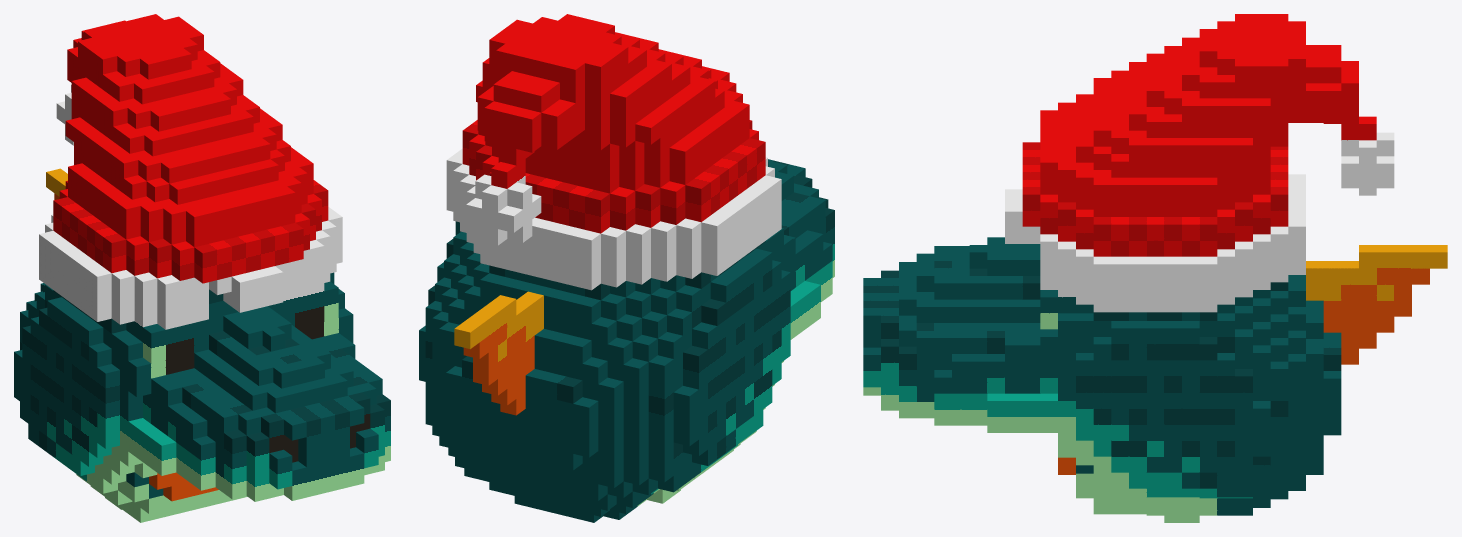
The model's file is santa hat_red glasses.gltf.
3 renders of one model, left to right at view 1: azimuth 30°, elevation 25°; view 2: azimuth 150°, elevation 25°; view 3: azimuth 270°, elevation 25°, orthographic. The views are drawn at different scales.
Parts seen in each view (by area): view 1: C48_H_Santa_RedG_RBSpec-Mesh; view 2: C48_H_Santa_RedG_RBSpec-Mesh; view 3: C48_H_Santa_RedG_RBSpec-Mesh.
Part boxes in pixels (x1,y1,x2,y2): C48_H_Santa_RedG_RBSpec-Mesh: (14, 14, 390, 522); C48_H_Santa_RedG_RBSpec-Mesh: (419, 14, 834, 522); C48_H_Santa_RedG_RBSpec-Mesh: (863, 14, 1447, 522).
Size of the model in its own units: 17 by 28 by 33.
Materials: 1 (1 with a texture image).
